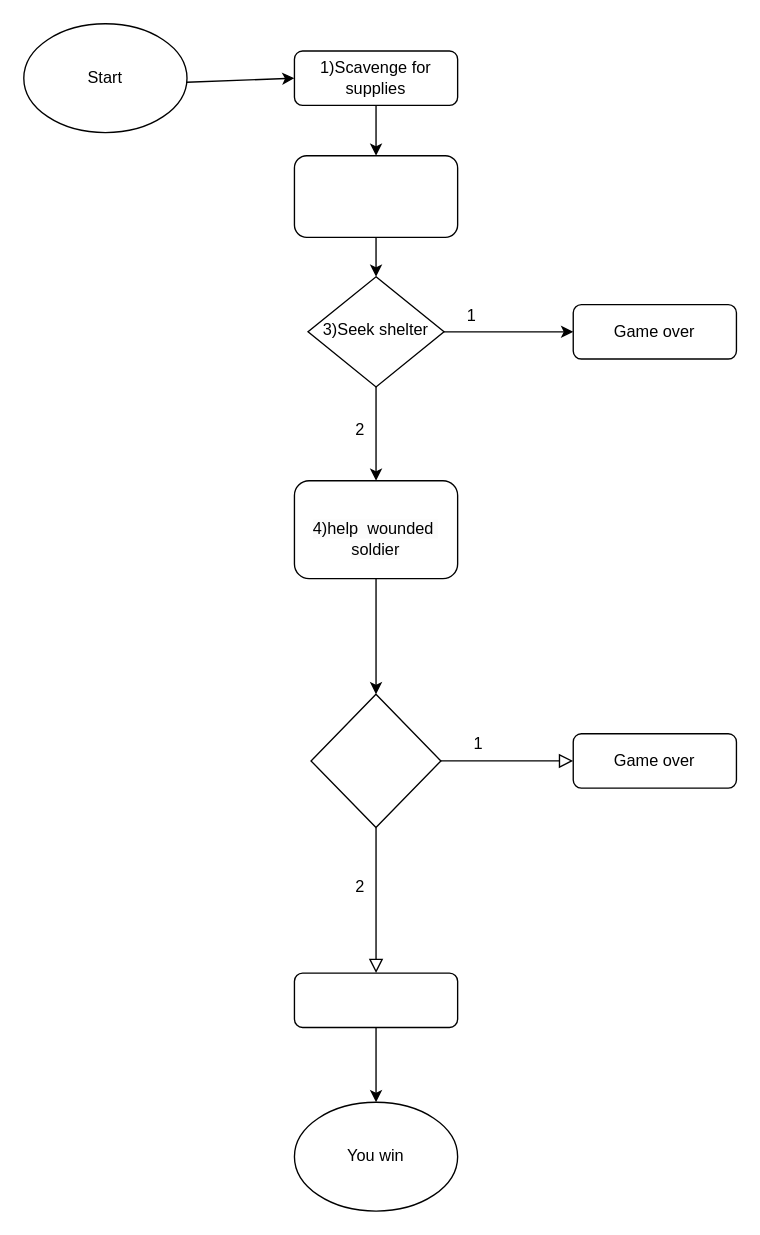
This 760x1235 diagram has some shape labels left out. The shapes that lost their labels are listed below. From the top down, each one's centre as x and y in pixels, then its label:
At (x=375, y=195): "2)Ambush".
At (x=375, y=760): "5)Cross a dangerous bridge".
At (x=375, y=999): "6)Join a group of survivors".
